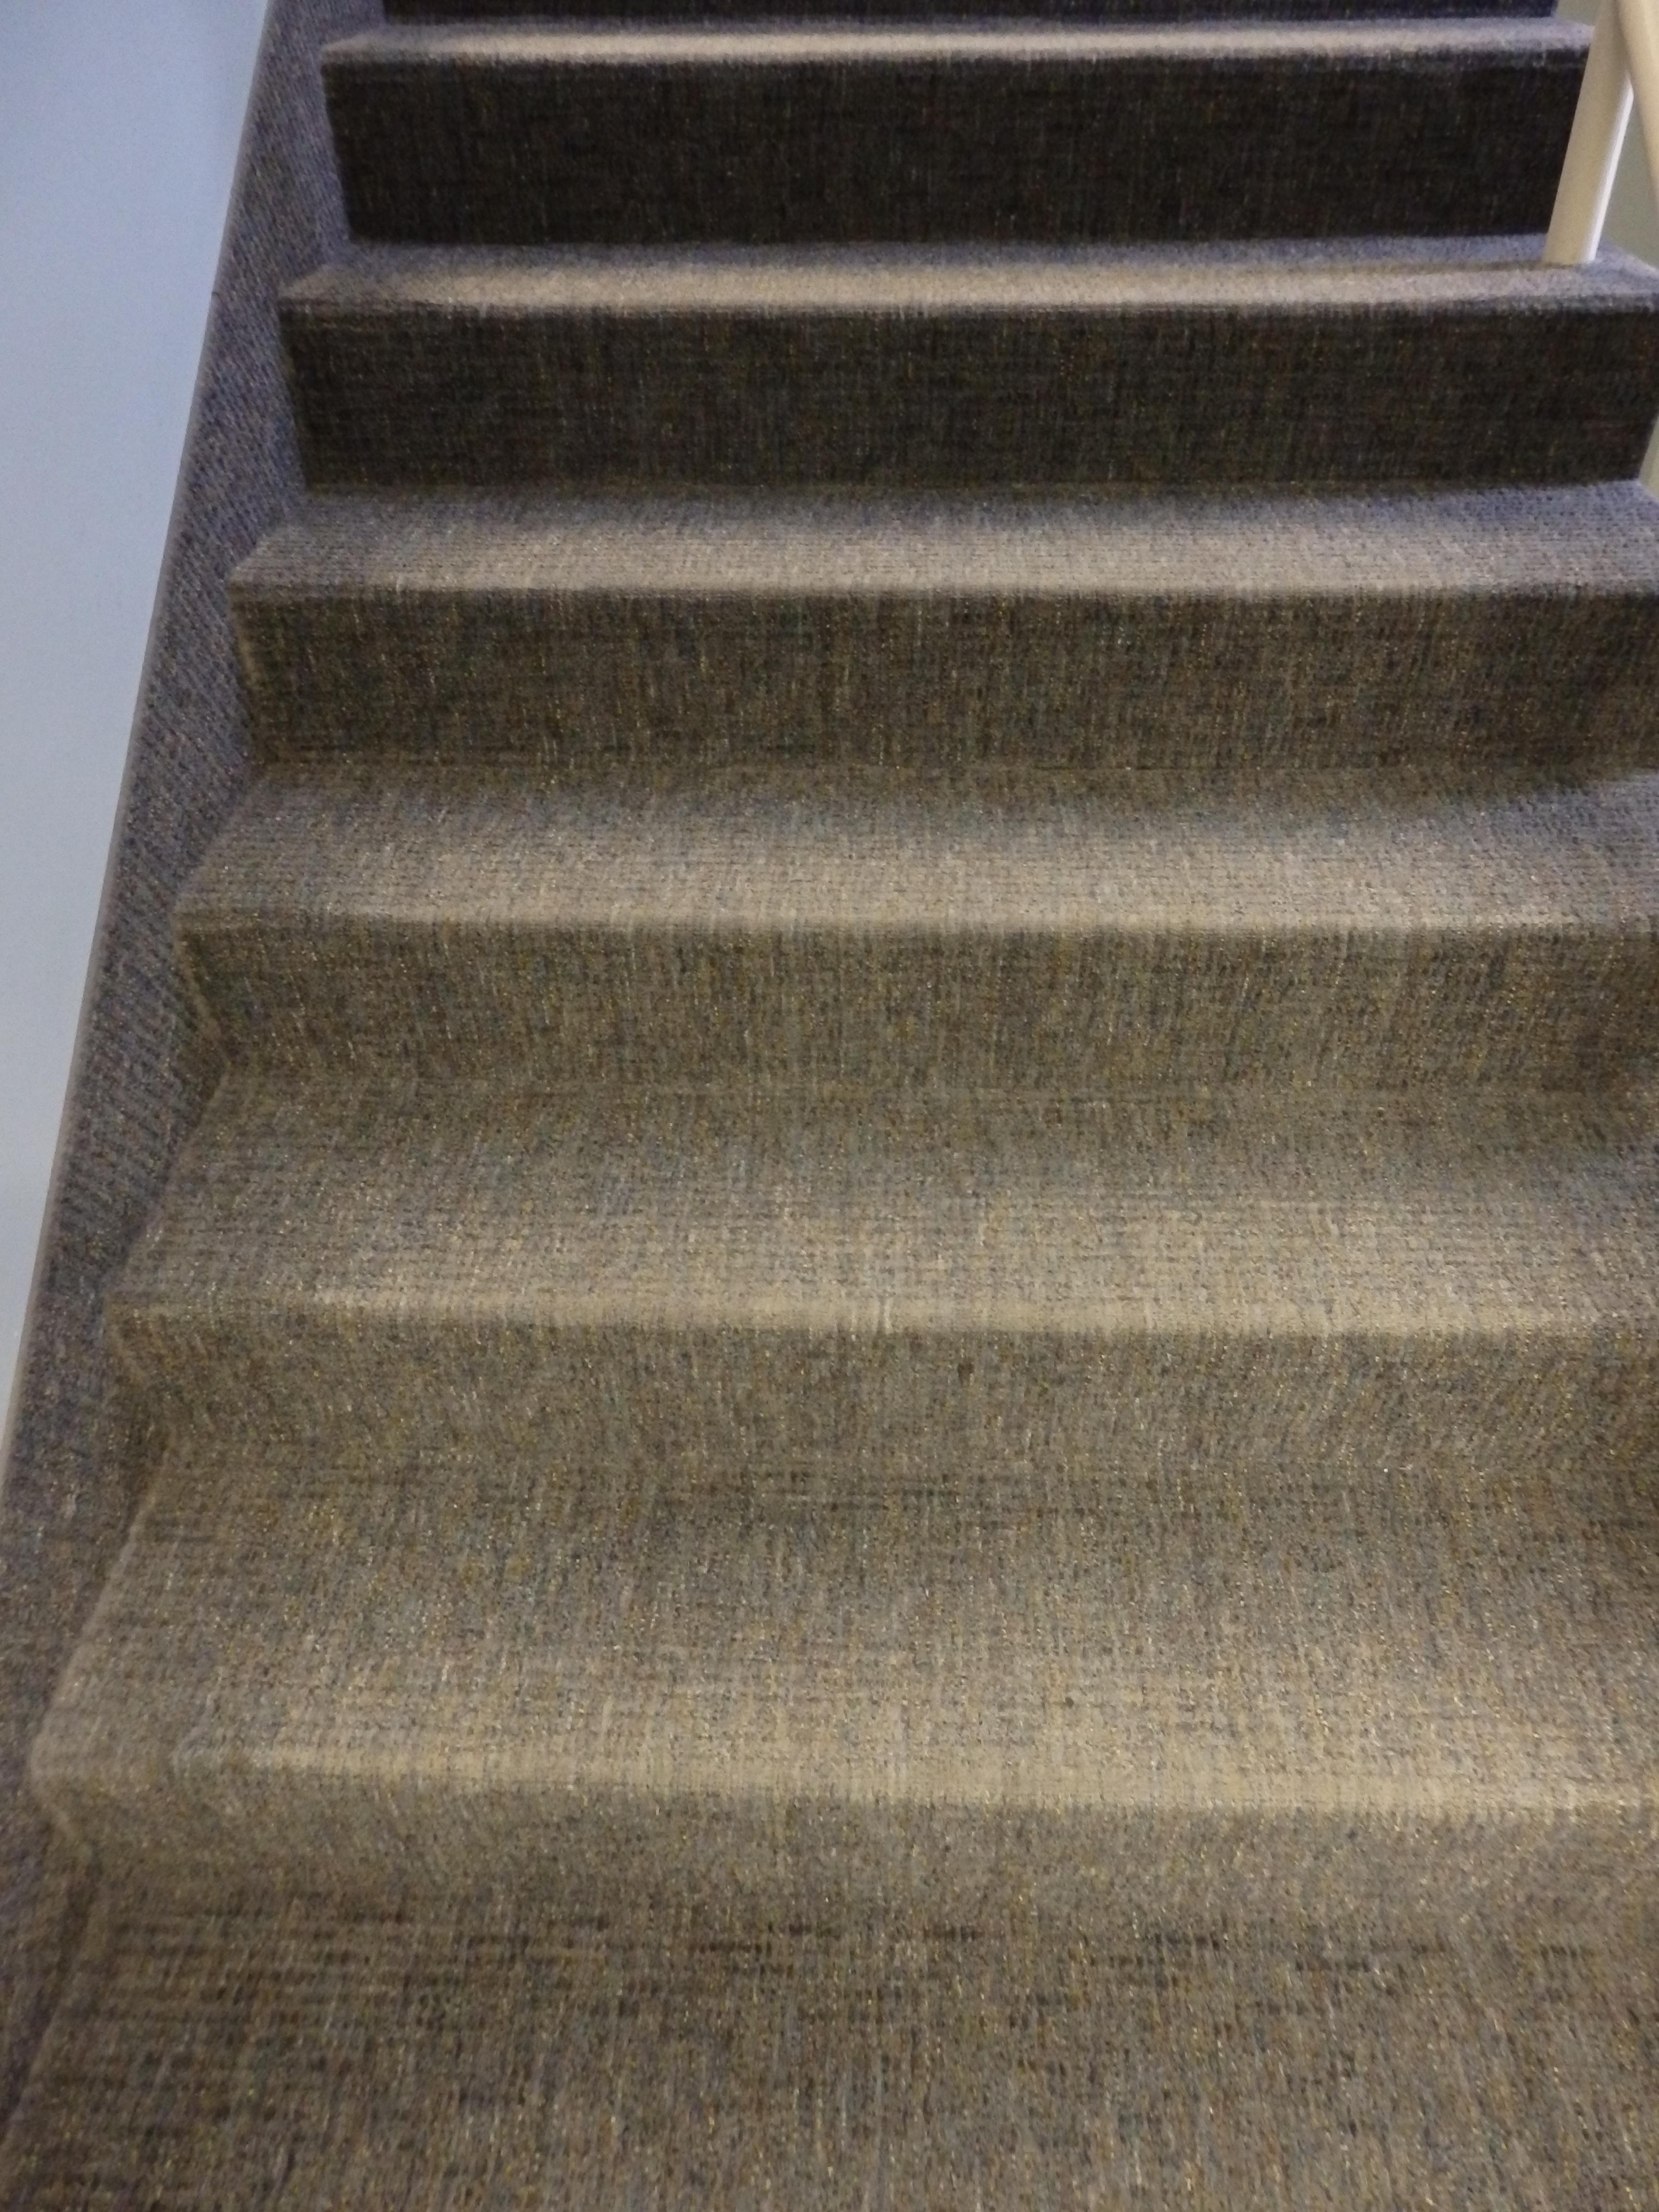stairs_up: (213, 38, 1624, 2000)
